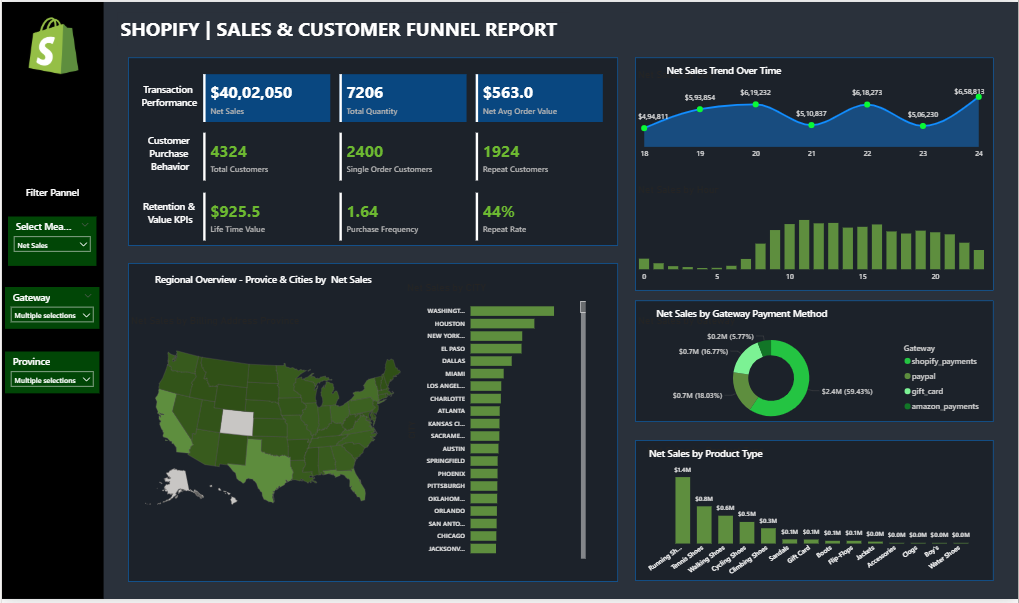

This screenshot's page, from the dashboard's own definition file:
{"tool":"powerbi","page":{"name":"Page 1","canvas":[1700,1000],"ordinal":0},"visuals":[{"type":"shape","box":[0,0,170,998.9],"z":0},{"type":"textbox","box":[192.5,17.5,757.5,55],"z":1000},{"type":"shape","box":[210,92.5,820,315],"z":2000},{"type":"cardVisual","fields":{"Data":["shopify_sales.Net Sales","shopify_sales.Total Quantity","shopify_sales.Net Avg Order Value"]},"box":[332.5,115,680,90],"z":3000},{"type":"card","fields":{"Values":["shopify_sales.Transaction Perf"]},"box":[187.5,110,182.5,92.5],"z":4000},{"type":"cardVisual","fields":{"Data":["shopify_sales.Total Customers","shopify_sales.Single Order Customers","shopify_sales.Repeat Customers"]},"box":[332.5,213.8,680,90],"z":5000},{"type":"card","fields":{"Values":["shopify_sales.Customer Purchase Behavior"]},"box":[210,202.5,140,92.5],"z":6000},{"type":"cardVisual","fields":{"Data":["shopify_sales.Life Time Value","shopify_sales.Purchase Frequency","shopify_sales.Repeat Cusomers"]},"box":[332.5,312.5,680,90],"z":7000},{"type":"card","fields":{"Values":["shopify_sales.Retention & Value KPIs"]},"box":[210,305,140,92.5],"z":8000},{"type":"shape","box":[210,436.7,820,533.3],"z":9000},{"type":"shapeMap","fields":{"Value":["shopify_sales.Net Sales"],"Category":["shopify_sales.Billing Address Province"]},"box":[210.8,522.1,484.4,358.9],"z":10000},{"type":"slicer","fields":{"Values":["Select Measure.Select Measure"]},"box":[10,358.9,148.1,82.8],"z":11000},{"type":"clusteredBarChart","fields":{"Y":["shopify_sales.Net Sales"],"Category":["shopify_sales.CITY"]},"box":[672.6,466.8,308.7,469.3],"z":12000},{"type":"card","fields":{"Values":["shopify_sales.Map Title"]},"box":[210.8,441.7,451.8,47.7],"z":13000},{"type":"shape","box":[1059.2,92.9,600,390],"z":14000},{"type":"areaChart","fields":{"Y":["shopify_sales.Net Sales"],"Category":["shopify_sales.Invoice Date.Variation.Date Hierarchy.Day"]},"box":[1059.2,110.4,589.8,160.6],"z":15000},{"type":"columnChart","fields":{"Y":["shopify_sales.Net Sales"],"Category":["shopify_sales.Hour"]},"box":[1059.2,303.7,589.8,173.2],"z":16000},{"type":"card","fields":{"Values":["shopify_sales.Trend Title"]},"box":[981.4,92.9,451.8,47.7],"z":17000},{"type":"shape","box":[1059.2,499.5,599.9,203.3],"z":18000},{"type":"donutChart","fields":{"Y":["shopify_sales.Net Sales"],"Category":["shopify_sales.Gateway"]},"box":[1059.2,522.1,589.8,193.3],"z":19000},{"type":"card","fields":{"Values":["shopify_sales.Gateway Title"]},"box":[1011.5,499.5,451.8,47.7],"z":20000},{"type":"shape","box":[1059.2,732.9,599.9,235.9],"z":21000},{"type":"columnChart","fields":{"Y":["shopify_sales.Net Sales"],"Category":["shopify_sales.Product Type"]},"box":[1074.2,740.4,562.2,228.4],"z":22000},{"type":"card","fields":{"Values":["shopify_sales.Product Title"]},"box":[951.2,732.9,451.8,47.7],"z":23000},{"type":"image","box":[32.6,20.1,107.9,105.4],"z":24000},{"type":"slicer","fields":{"Values":["shopify_sales.Gateway"]},"box":[5,476.9,158.1,70.3],"z":25000},{"type":"slicer","fields":{"Values":["shopify_sales.Billing Address Province"]},"box":[5,584.8,158.1,70.3],"z":26000},{"type":"card","fields":{"Values":["shopify_sales.Filter Pannel"]},"box":[5,296.2,158.1,47.7],"z":27000}]}

Visuals, with their boxes on the page's 1700x1000 design canvas (x1, y1, x2, y2). These are canvas units, not pixel positions in the 1019x603 screenshot, which may show the page scaled, cropped or inside an application window:
shape: [0,0,170,999]
textbox: [192,18,950,72]
shape: [210,92,1030,408]
cardVisual - shopify_sales.Net Sales x shopify_sales.Total Quantity: [332,115,1012,205]
card - shopify_sales.Transaction Perf: [188,110,370,202]
cardVisual - shopify_sales.Total Customers x shopify_sales.Single Order Customers: [332,214,1012,304]
card - shopify_sales.Customer Purchase Behavior: [210,202,350,295]
cardVisual - shopify_sales.Life Time Value x shopify_sales.Purchase Frequency: [332,312,1012,402]
card - shopify_sales.Retention & Value KPIs: [210,305,350,398]
shape: [210,437,1030,970]
shapeMap - shopify_sales.Net Sales x shopify_sales.Billing Address Province: [211,522,695,881]
slicer - Select Measure.Select Measure: [10,359,158,442]
clusteredBarChart - shopify_sales.Net Sales x shopify_sales.CITY: [673,467,981,936]
card - shopify_sales.Map Title: [211,442,663,489]
shape: [1059,93,1659,483]
areaChart - shopify_sales.Net Sales x shopify_sales.Invoice Date.Variation.Date Hierarchy.Day: [1059,110,1649,271]
columnChart - shopify_sales.Net Sales x shopify_sales.Hour: [1059,304,1649,477]
card - shopify_sales.Trend Title: [981,93,1433,141]
shape: [1059,500,1659,703]
donutChart - shopify_sales.Net Sales x shopify_sales.Gateway: [1059,522,1649,715]
card - shopify_sales.Gateway Title: [1012,500,1463,547]
shape: [1059,733,1659,969]
columnChart - shopify_sales.Net Sales x shopify_sales.Product Type: [1074,740,1636,969]
card - shopify_sales.Product Title: [951,733,1403,781]
image: [33,20,140,126]
slicer - shopify_sales.Gateway: [5,477,163,547]
slicer - shopify_sales.Billing Address Province: [5,585,163,655]
card - shopify_sales.Filter Pannel: [5,296,163,344]
